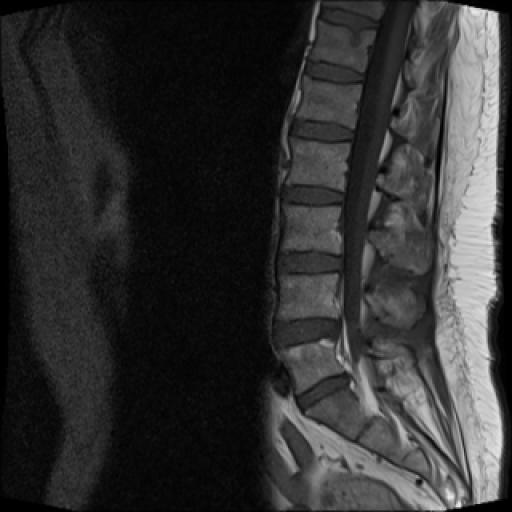L1: (296, 76, 362, 128)
L2: (284, 138, 350, 190)
L3: (282, 204, 341, 254)
L4: (276, 272, 342, 320)
L5: (279, 336, 344, 397)
S1: (305, 386, 370, 440)
